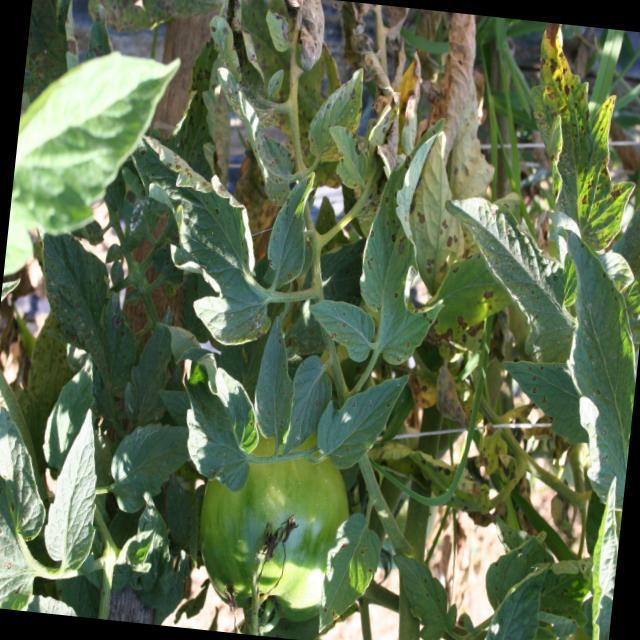Septoria: (34, 242, 122, 374), (370, 159, 414, 299), (324, 520, 376, 628), (253, 317, 300, 431), (0, 456, 36, 599), (266, 172, 312, 282), (180, 392, 235, 482), (194, 195, 256, 273), (304, 73, 362, 151), (243, 120, 294, 202), (324, 121, 368, 190), (293, 358, 332, 424), (391, 306, 431, 364), (346, 390, 392, 428), (328, 308, 351, 343), (338, 445, 348, 465)
